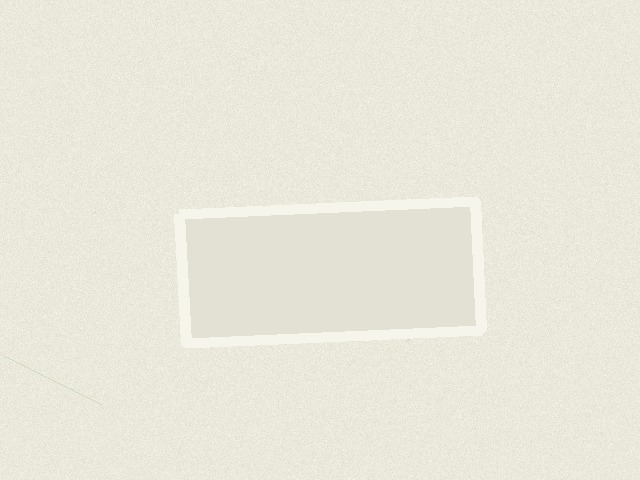parking_area: (179, 201, 481, 343)
